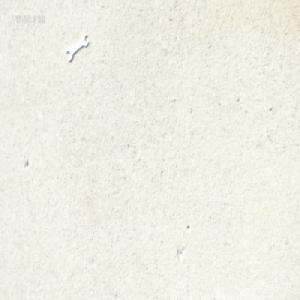Wrench: (65, 29, 88, 61)
